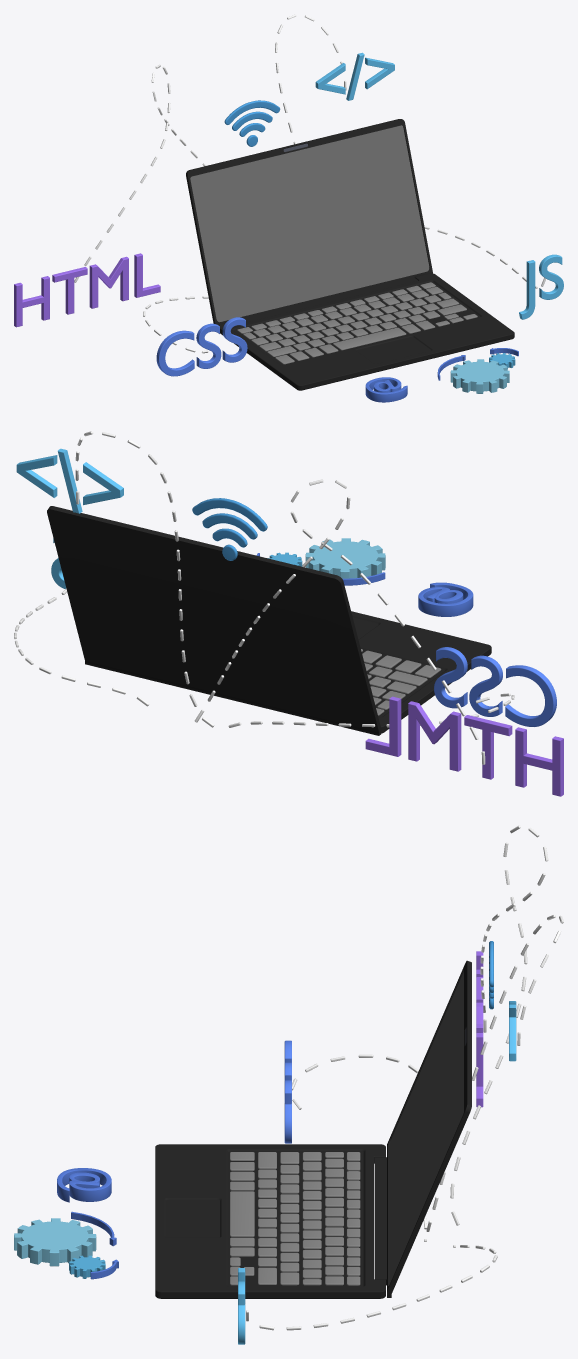
Rendered from leptop.glb.
3 renders of one model, top to bottom at view 1: azimuth 30°, elevation 25°; view 2: azimuth 150°, elevation 25°; view 3: azimuth 270°, elevation 25°, orthographic. The views are drawn at different scales.
Parts seen in each view (by area): view 1: laptop screen, laptop body, laptop key bord, HTML, Gears, CSS, Lines, </>, JS, Wi-Fi, @; view 2: laptop screen, HTML, laptop body, CSS, Lines, Gears, laptop key bord, </>, Wi-Fi, @; view 3: laptop body, laptop screen, laptop key bord, Gears, Lines, @, HTML, CSS.
Boxes of the visible parts, bbox=[...] form: laptop screen: bbox=[186, 119, 432, 325]; laptop body: bbox=[219, 273, 514, 390]; laptop key bord: bbox=[237, 282, 477, 364]; HTML: bbox=[14, 253, 160, 327]; Gears: bbox=[437, 348, 518, 393]; CSS: bbox=[156, 317, 247, 376]; Lines: bbox=[74, 14, 545, 353]; </>: bbox=[315, 52, 394, 100]; JS: bbox=[519, 254, 563, 319]; Wi-Fi: bbox=[224, 100, 280, 146]; @: bbox=[365, 377, 407, 402]; laptop screen: bbox=[47, 506, 381, 735]; HTML: bbox=[365, 696, 563, 796]; laptop body: bbox=[351, 611, 491, 733]; CSS: bbox=[434, 647, 556, 726]; Lines: bbox=[14, 431, 514, 764]; Gears: bbox=[256, 538, 385, 585]; laptop key bord: bbox=[361, 649, 441, 715]; </>: bbox=[16, 448, 123, 513]; Wi-Fi: bbox=[192, 498, 267, 560]; @: bbox=[418, 582, 473, 616]; laptop body: bbox=[155, 1144, 385, 1298]; laptop screen: bbox=[374, 960, 471, 1297]; laptop key bord: bbox=[230, 1152, 360, 1285]; Gears: bbox=[14, 1211, 118, 1279]; Lines: bbox=[246, 825, 563, 1330]; @: bbox=[57, 1168, 111, 1202]; HTML: bbox=[476, 951, 483, 1107]; CSS: bbox=[284, 1040, 291, 1143].
Bounding box in the file's own units: 10.39 × 5.32 × 7.69.
